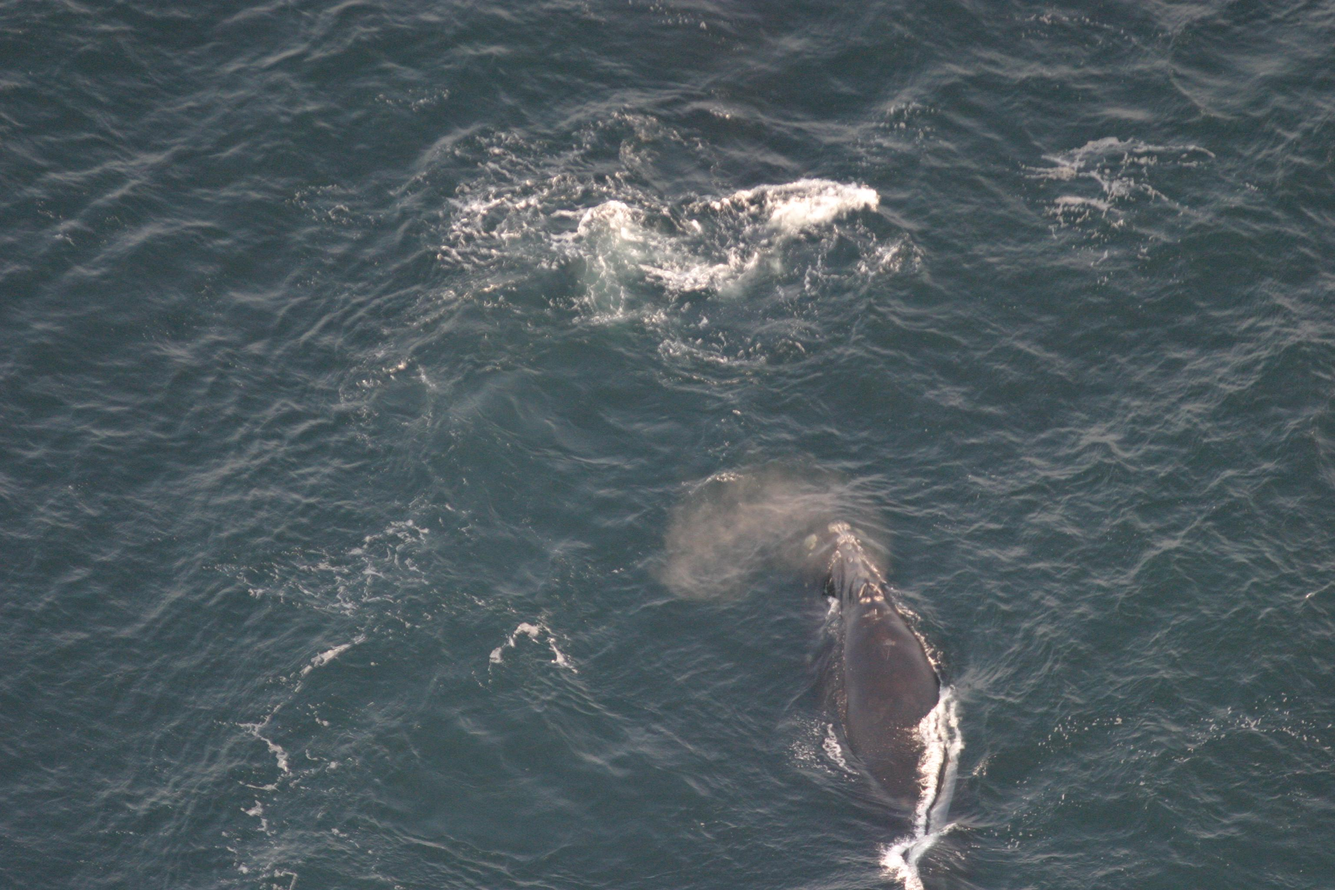whale: (779, 511, 986, 890)
